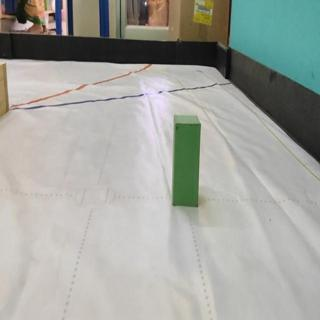greenbox: (171, 113, 202, 208)
